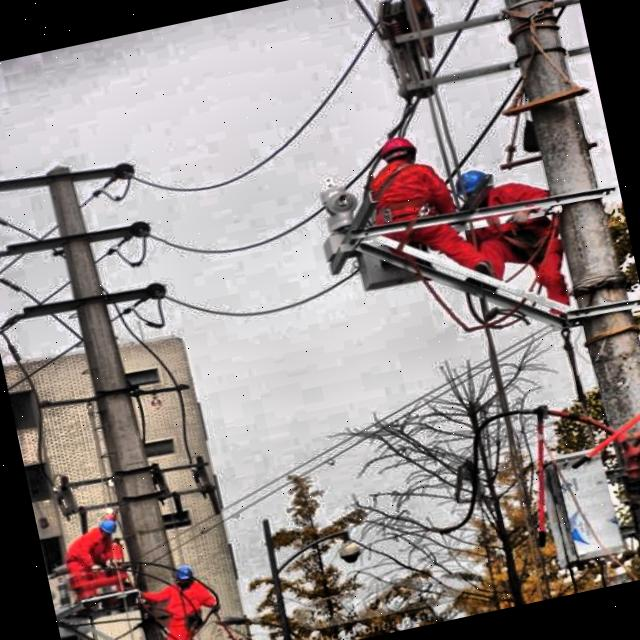helmet: (450, 160, 499, 210), (372, 131, 424, 176), (168, 559, 203, 592), (92, 514, 124, 540)
